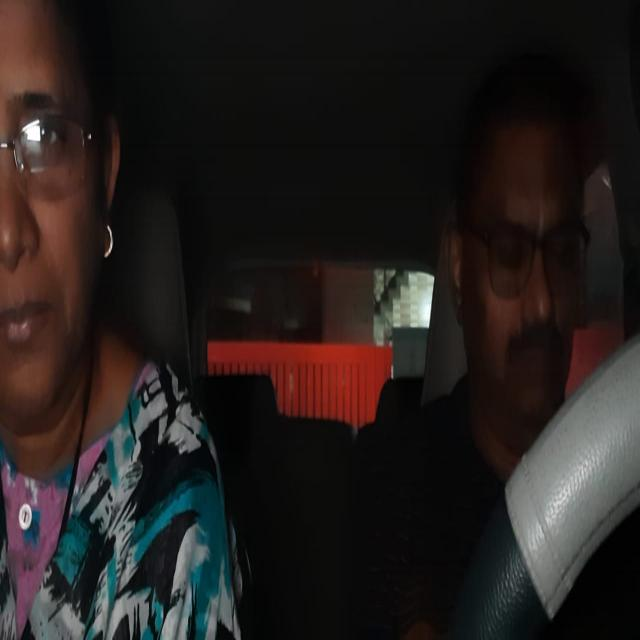drowsy: (463, 129, 580, 414)
person: (4, 8, 120, 411)
